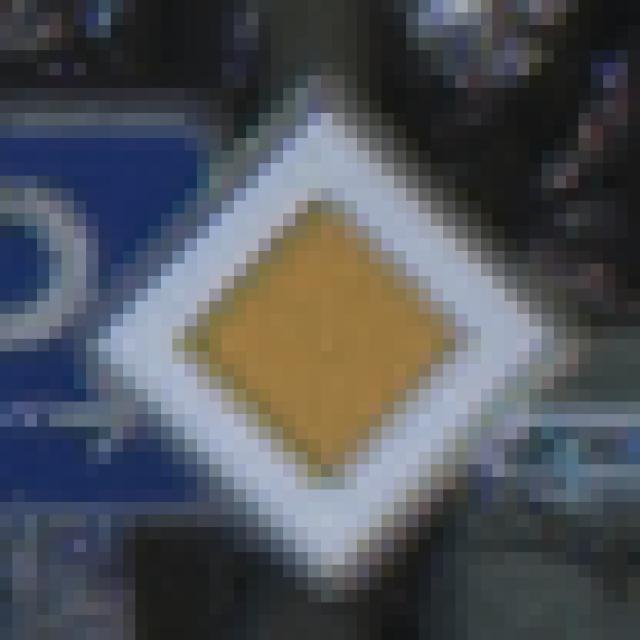Main Road: (75, 64, 579, 578)
